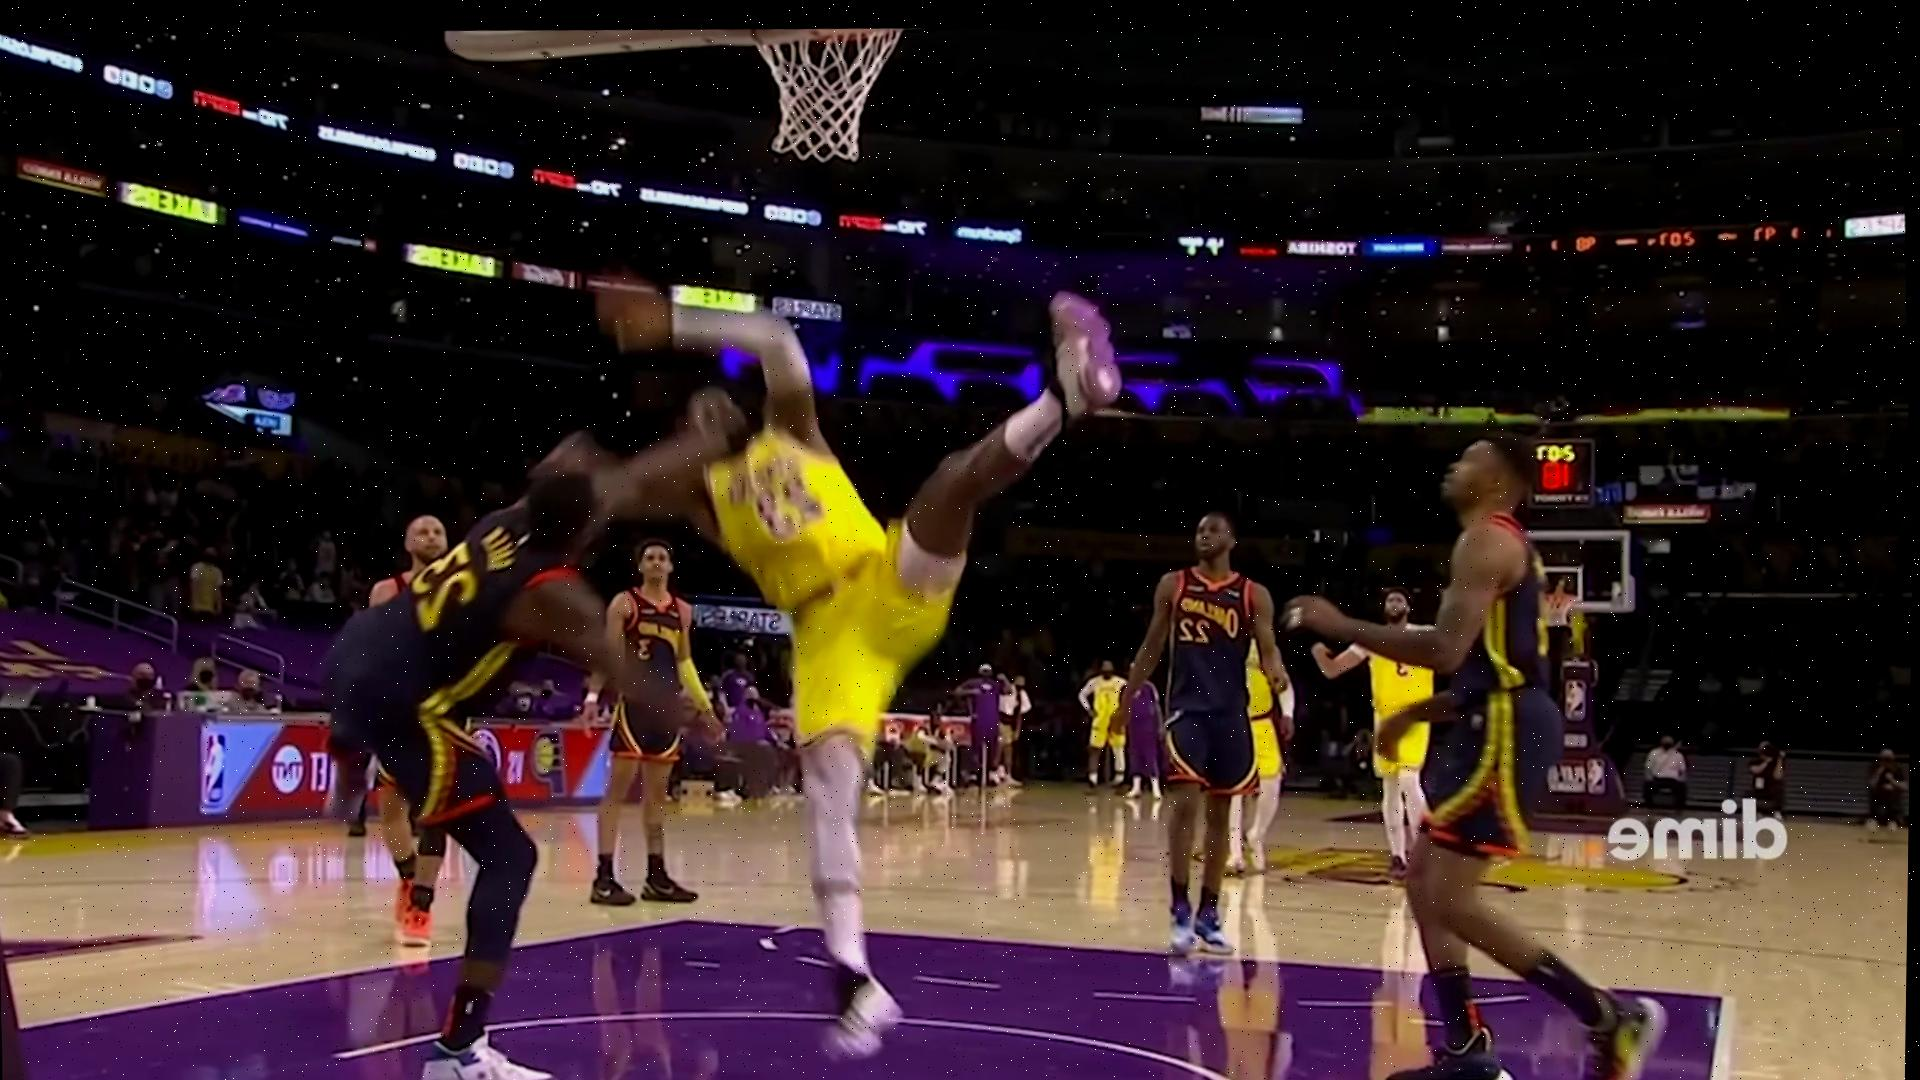foul: (338, 233, 1006, 1080)
